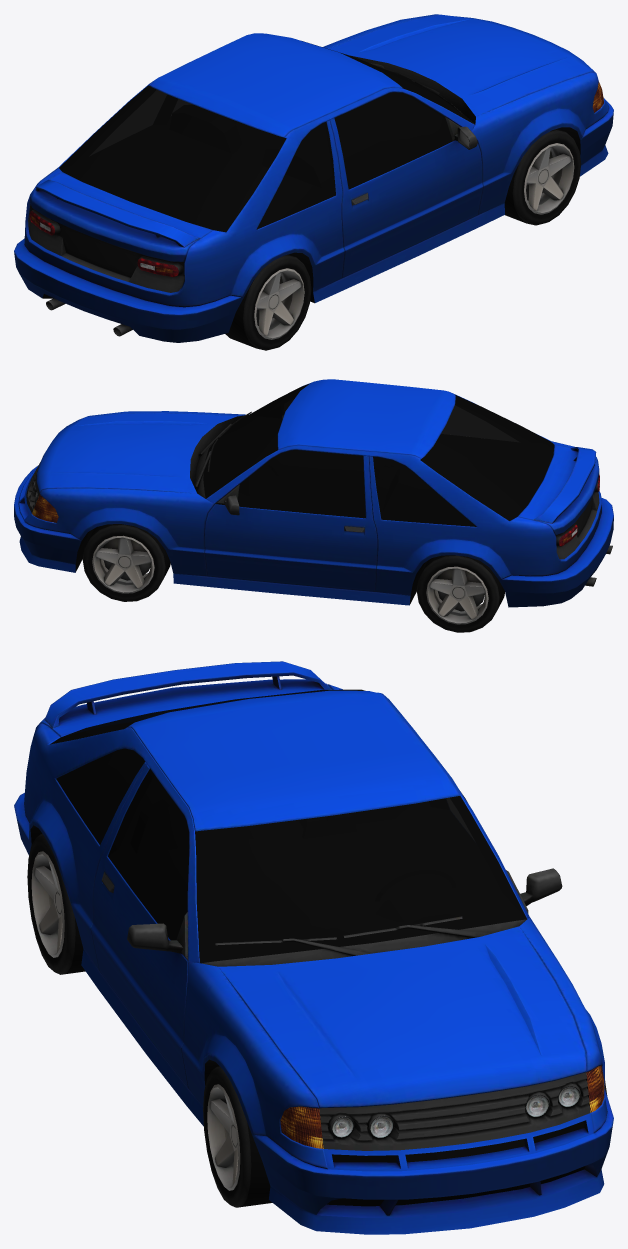
Rendered from pack_coupe.glb.
3 renders of one model, top to bottom at view 1: azimuth 30°, elevation 25°; view 2: azimuth 150°, elevation 25°; view 3: azimuth 270°, elevation 25°, orthographic. The views are drawn at different scales.
Visible parts, largest first — view 1: Coupe Body_Body_0, Coupe Body_Glass_0, Wheel_F001_Wheel_0, Coupe Body_Optics_0; view 2: Coupe Body_Body_0, Coupe Body_Glass_0, Wheel_F001_Wheel_0, Coupe Body_Optics_0; view 3: Coupe Body_Body_0, Coupe Body_Glass_0, Wheel_F001_Wheel_0, Coupe Body_Optics_0.
Boxes of the visible parts, x1,y1,x2,y2 form: Coupe Body_Body_0: (14,14,613,342); Coupe Body_Glass_0: (59,41,473,232); Wheel_F001_Wheel_0: (225,128,581,350); Coupe Body_Optics_0: (29,81,603,277); Coupe Body_Body_0: (14,379,613,607); Coupe Body_Glass_0: (203,383,554,526); Wheel_F001_Wheel_0: (82,524,504,632); Coupe Body_Optics_0: (32,475,599,546); Coupe Body_Body_0: (14,661,613,1234); Coupe Body_Glass_0: (50,689,526,963); Wheel_F001_Wheel_0: (27,833,607,1207); Coupe Body_Optics_0: (280,1065,604,1148).
Size of the model in its own units: 4.2 by 1.28 by 2.5.
4 materials, 3 textured.
